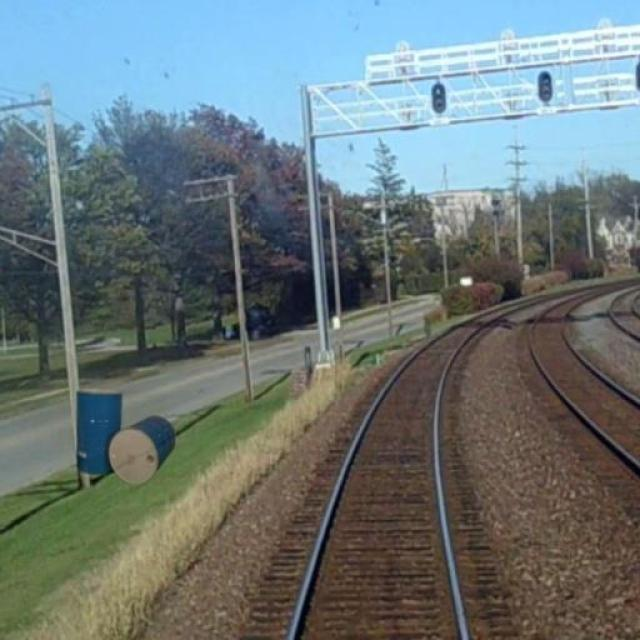Other_objects: (72, 386, 180, 484)
